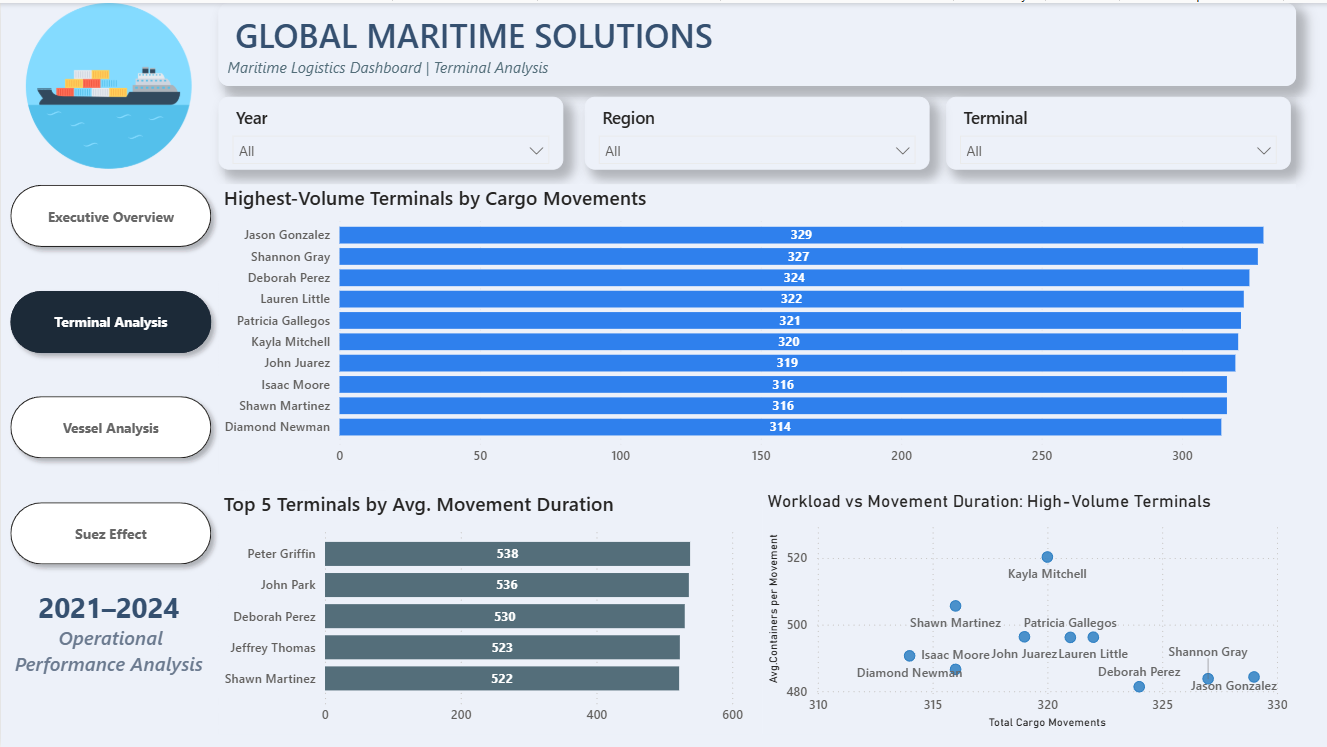

What the dashboard file says about the page in this screenshot:
{"tool":"powerbi","page":{"name":"Terminal Analysis","canvas":[1280,720],"ordinal":1},"visuals":[{"type":"textbox","box":[210,0,1040,80],"z":0},{"type":"slicer","fields":{"Values":["dim_terminal.terminal_name"]},"box":[912,90,333,70],"z":1000},{"type":"slicer","fields":{"Values":["dim_terminal.regional_hub"]},"box":[563,90,333,70],"z":2000},{"type":"slicer","fields":{"Values":["dim_time.fiscal_year"]},"box":[210,90,333,70],"z":3000},{"type":"clusteredBarChart","title":"Highest-Volume Terminals by Cargo Movements","fields":{"Category":["dim_terminal.terminal_name"],"Y":["Measure.Total Cargo Movements"]},"box":[210,175,1040,280],"z":4000},{"type":"barChart","title":"Top 5 Terminals by Avg.  Movement Duration","fields":{"Category":["dim_terminal.terminal_name"],"Y":["Measure.Avg.Movement Duration"]},"box":[210,470,512,235],"z":5000},{"type":"group","id":"g1","title":"Group 1","box":[0,0,212,672],"z":6000},{"type":"scatterChart","title":"Workload vs Movement Duration: High-Volume Terminals","fields":{"X":["Measure.Total Cargo Movements"],"Y":["Measure.Avg.Containers per Movement"],"Category":["dim_terminal.terminal_name"]},"box":[735,470,512,235],"z":7000},{"type":"pageNavigator","box":[0,167,212,385],"z":8000,"group":"g1"},{"type":"image","box":[0,0,208,160],"z":9000,"group":"g1"},{"type":"textbox","box":[0,560,208,112],"z":10000,"group":"g1"}]}

Visuals, with their boxes in screenshot pixels (x1, y1, x2, y2), scaled from the page's 1280x720 canvas onto the 1327x747 screenshot:
textbox: bbox=[218, 0, 1296, 83]
slicer - dim_terminal.terminal_name: bbox=[945, 93, 1291, 166]
slicer - dim_terminal.regional_hub: bbox=[584, 93, 929, 166]
slicer - dim_time.fiscal_year: bbox=[218, 93, 563, 166]
"Highest-Volume Terminals by Cargo Movements" clusteredBarChart: bbox=[218, 182, 1296, 472]
"Top 5 Terminals by Avg.  Movement Duration" barChart: bbox=[218, 488, 749, 731]
"Group 1" group: bbox=[0, 0, 220, 697]
"Workload vs Movement Duration: High-Volume Terminals" scatterChart: bbox=[762, 488, 1293, 731]
pageNavigator: bbox=[0, 173, 220, 573]
image: bbox=[0, 0, 216, 166]
textbox: bbox=[0, 581, 216, 697]
